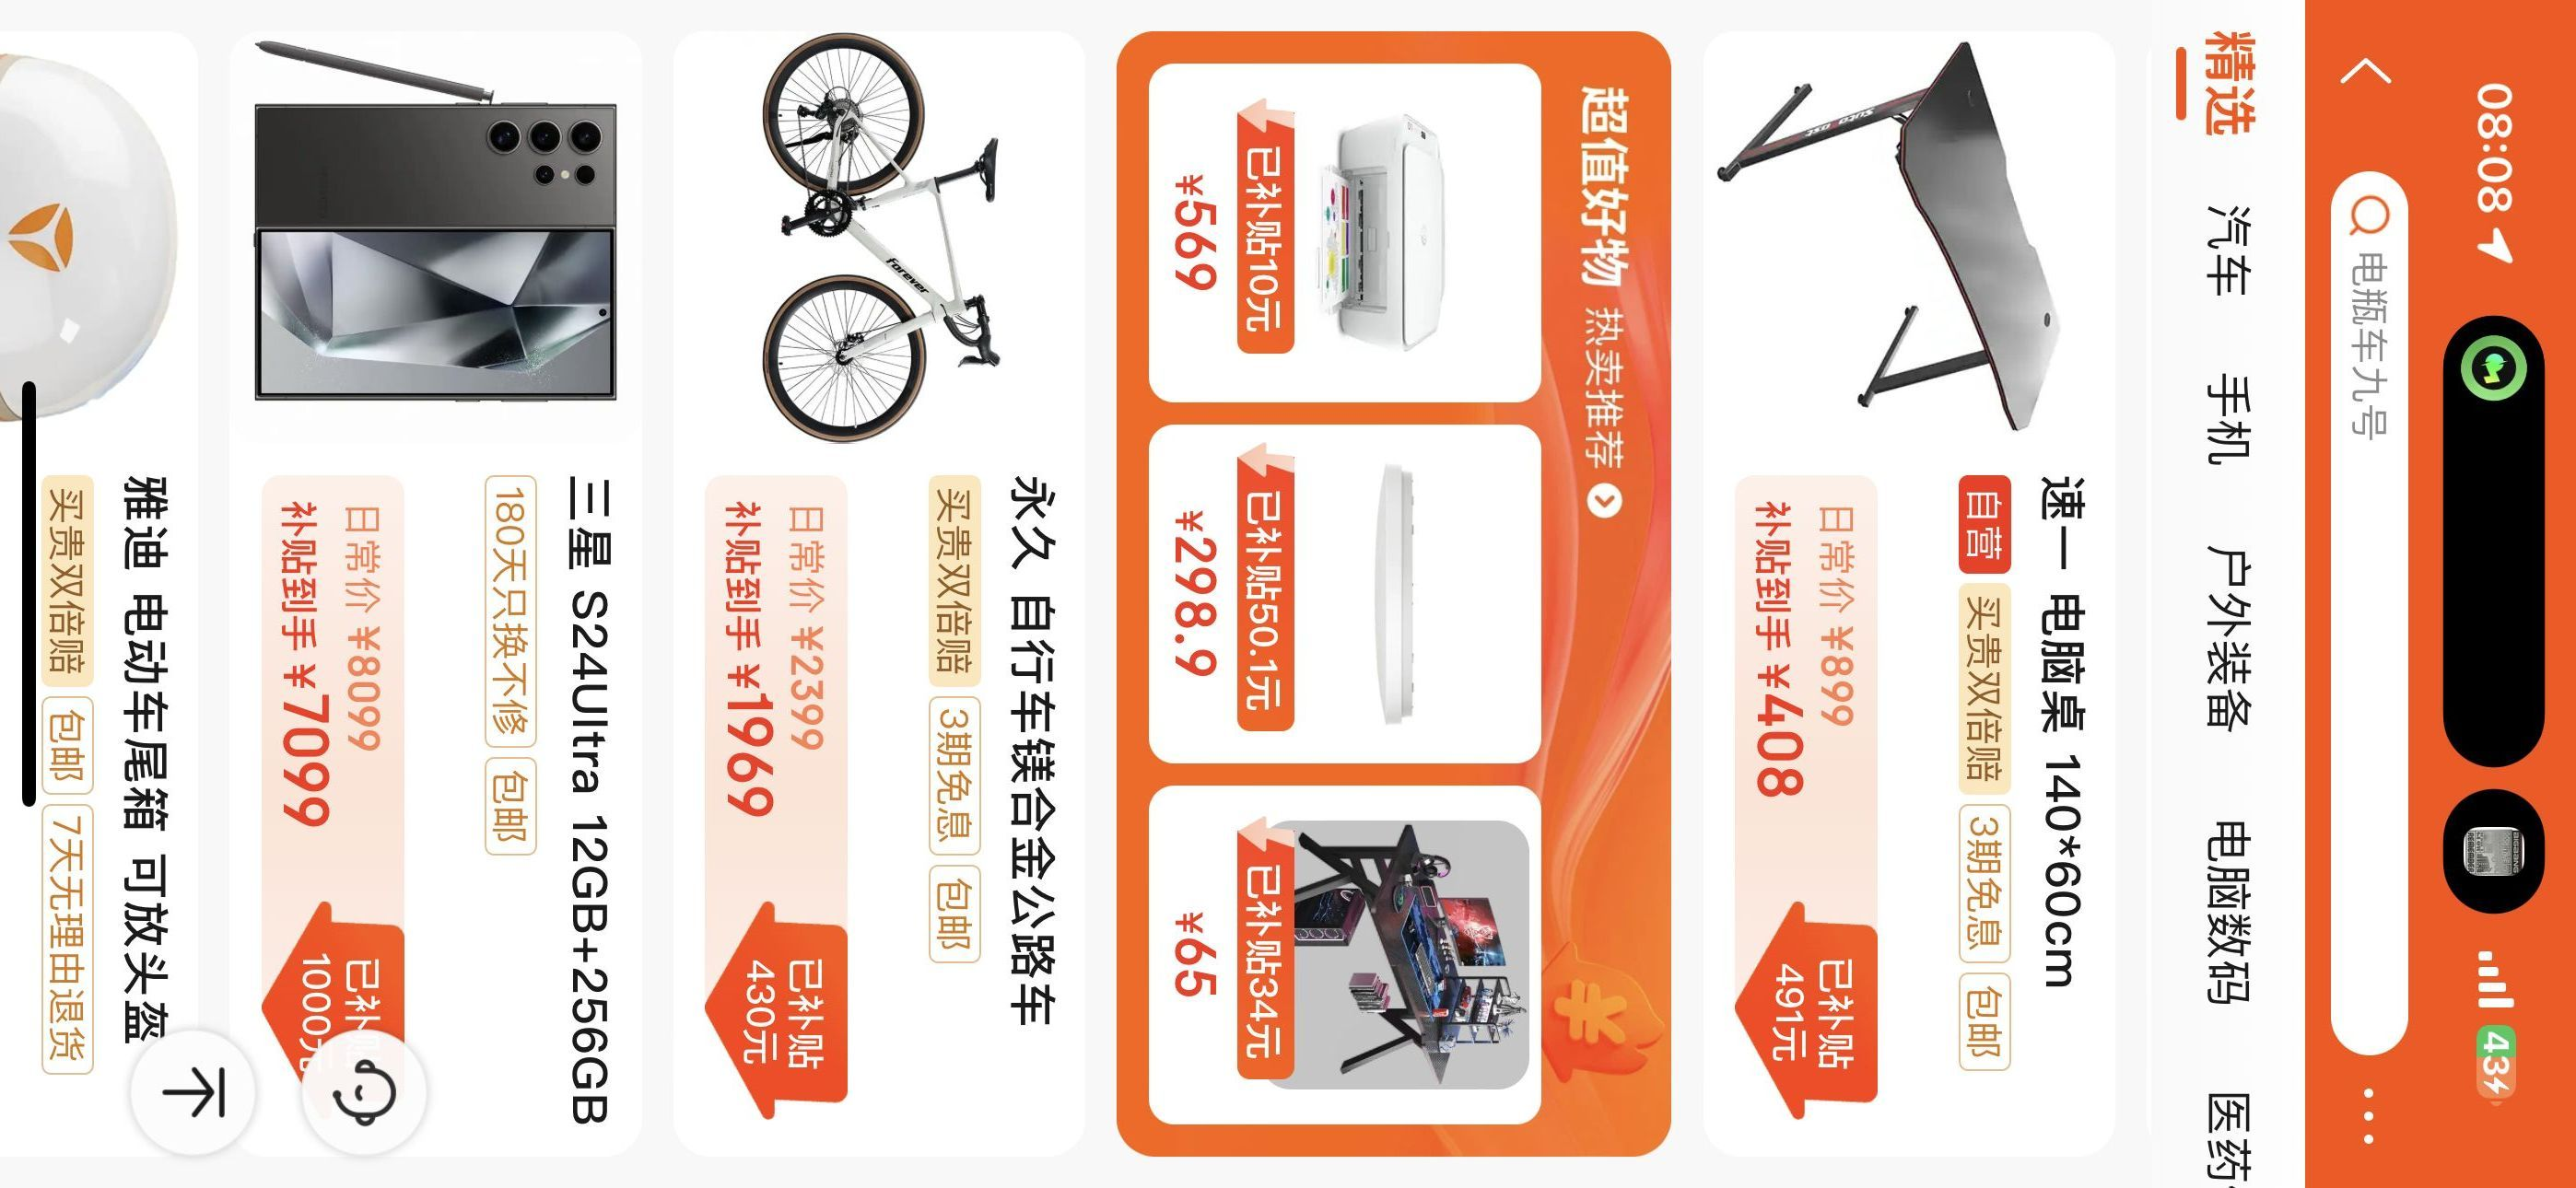banner: (1115, 28, 1671, 1162)
item: (665, 33, 1089, 1162), (227, 35, 642, 1163), (1707, 28, 2121, 1153)
op_bar: (2308, 2, 2425, 1178)
